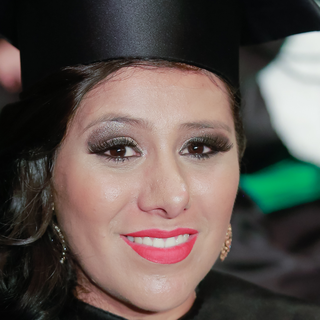eye: (90, 136, 142, 165), (178, 136, 226, 163)
